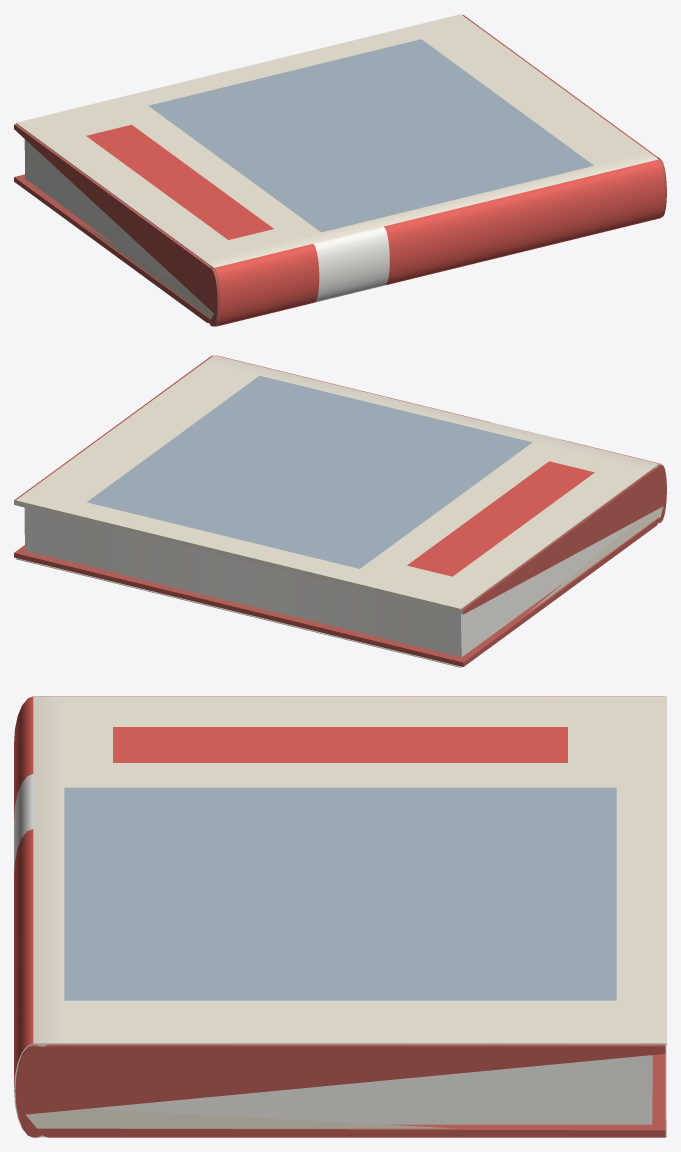
File: paper_book_e.fbx
3 views of the same model, one above another, from view 1: azimuth 30°, elevation 25°; view 2: azimuth 150°, elevation 25°; view 3: azimuth 270°, elevation 25° (orthographic). The views are drawn at different scales.
Visible parts, largest first — view 1: paper_book_e; view 2: paper_book_e; view 3: paper_book_e.
Boxes of the visible parts, left/top/right/bottom form: paper_book_e: left=14, top=14, right=666, bottom=326; paper_book_e: left=14, top=355, right=666, bottom=667; paper_book_e: left=14, top=696, right=666, bottom=1137.
Bounding box in the file's own units: 0.255 × 0.0319 × 0.2009.
